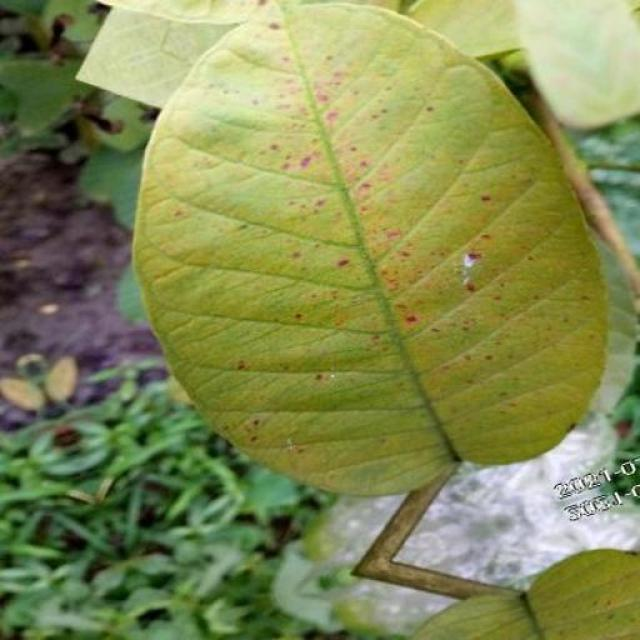Rust: (134, 5, 606, 493)
